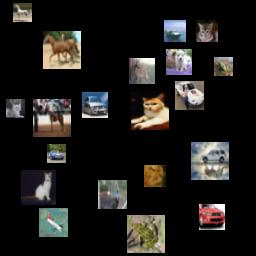airplane: (39, 208, 68, 237)
automobile: (191, 142, 229, 180), (175, 81, 204, 110), (82, 92, 108, 118), (199, 204, 225, 230), (47, 144, 66, 163)
bird: (98, 180, 127, 209)
cat: (131, 92, 169, 130), (21, 170, 56, 205), (144, 165, 166, 187), (196, 20, 218, 42), (6, 99, 25, 118)
deer: (129, 58, 155, 84)
dog: (166, 49, 192, 75)
frog: (127, 215, 165, 253), (214, 57, 233, 76)
ship: (164, 20, 186, 42)
